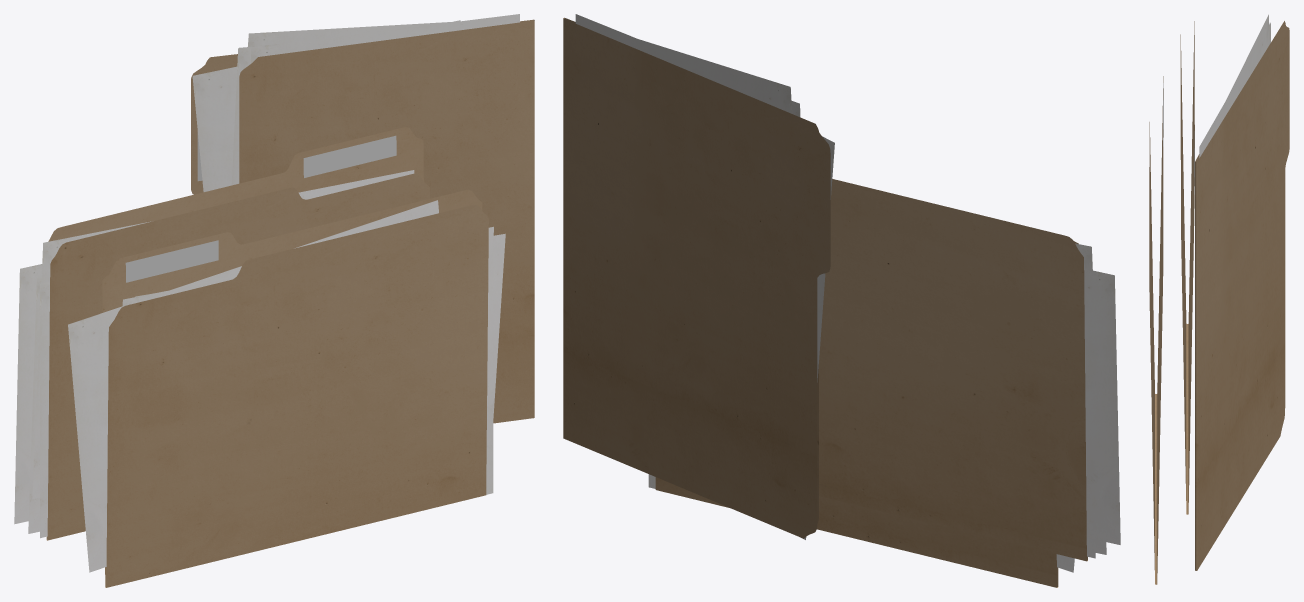
File: File_Folders.obj
3 views of the same model, side by side, from view 1: azimuth 30°, elevation 25°; view 2: azimuth 150°, elevation 25°; view 3: azimuth 270°, elevation 25° (orthographic). The views are drawn at different scales.
Visible parts, largest first — view 1: Folder_Left, Folder_Top, Folder_Right, Paper.4_2, Paper.4, Paper.4_1, Paper, Paper.2_1, Paper_1, Folder_Name_1, Folder_Name_2, Paper_2 (+4 smaller); view 2: Folder_Top, Folder_Right, Paper.4_1, Folder_Left, Paper.3, Paper.4; view 3: Folder_Top, Folder_Left, Folder_Right, Paper.3, Paper.4.
Boxes of the visible parts, x1=… form: Folder_Left: x1=102, y1=189, x2=488, y2=587; Folder_Top: x1=191, y1=19, x2=534, y2=423; Folder_Right: x1=46, y1=127, x2=429, y2=540; Paper.4_2: x1=68, y1=200, x2=438, y2=572; Paper.4: x1=192, y1=20, x2=460, y2=191; Paper.4_1: x1=14, y1=264, x2=42, y2=524; Paper: x1=251, y1=14, x2=519, y2=63; Paper.2_1: x1=32, y1=170, x2=414, y2=499; Paper_1: x1=40, y1=281, x2=49, y2=538; Folder_Name_1: x1=303, y1=135, x2=396, y2=177; Folder_Name_2: x1=125, y1=240, x2=218, y2=282; Paper_2: x1=486, y1=239, x2=493, y2=494; Folder_Top: x1=563, y1=17, x2=830, y2=538; Folder_Right: x1=819, y1=179, x2=1087, y2=561; Paper.4_1: x1=1084, y1=268, x2=1120, y2=544; Folder_Left: x1=655, y1=477, x2=1058, y2=587; Paper.3: x1=577, y1=20, x2=792, y2=113; Paper.4: x1=620, y1=33, x2=834, y2=539; Folder_Top: x1=1195, y1=21, x2=1289, y2=570; Folder_Left: x1=1149, y1=76, x2=1163, y2=584; Folder_Right: x1=1180, y1=21, x2=1194, y2=514; Paper.3: x1=1201, y1=14, x2=1269, y2=155; Paper.4: x1=1215, y1=54, x2=1263, y2=131.
Size of the model in its own units: 1018 by 865 by 230.
